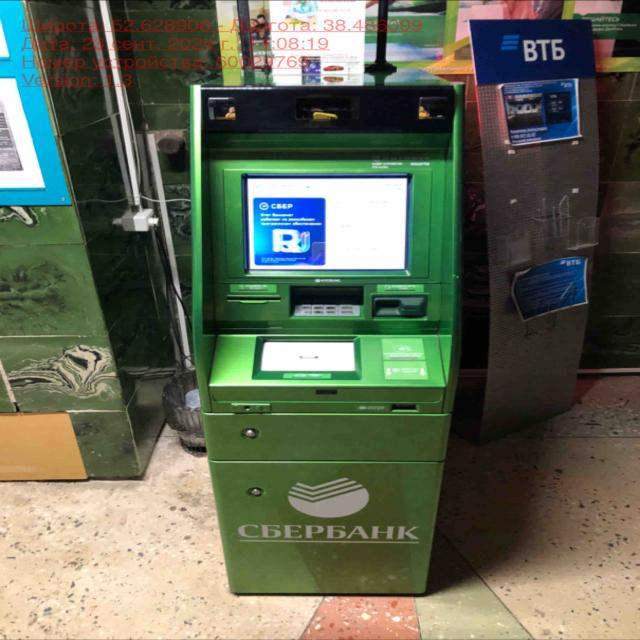bank: (184, 64, 472, 598)
